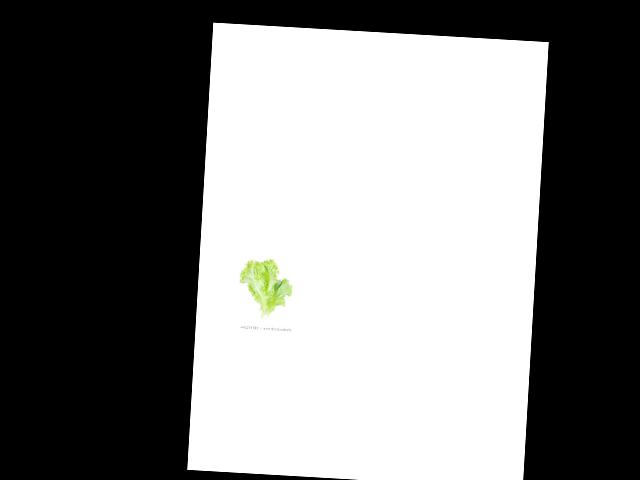lettuce: (237, 256, 295, 323)
